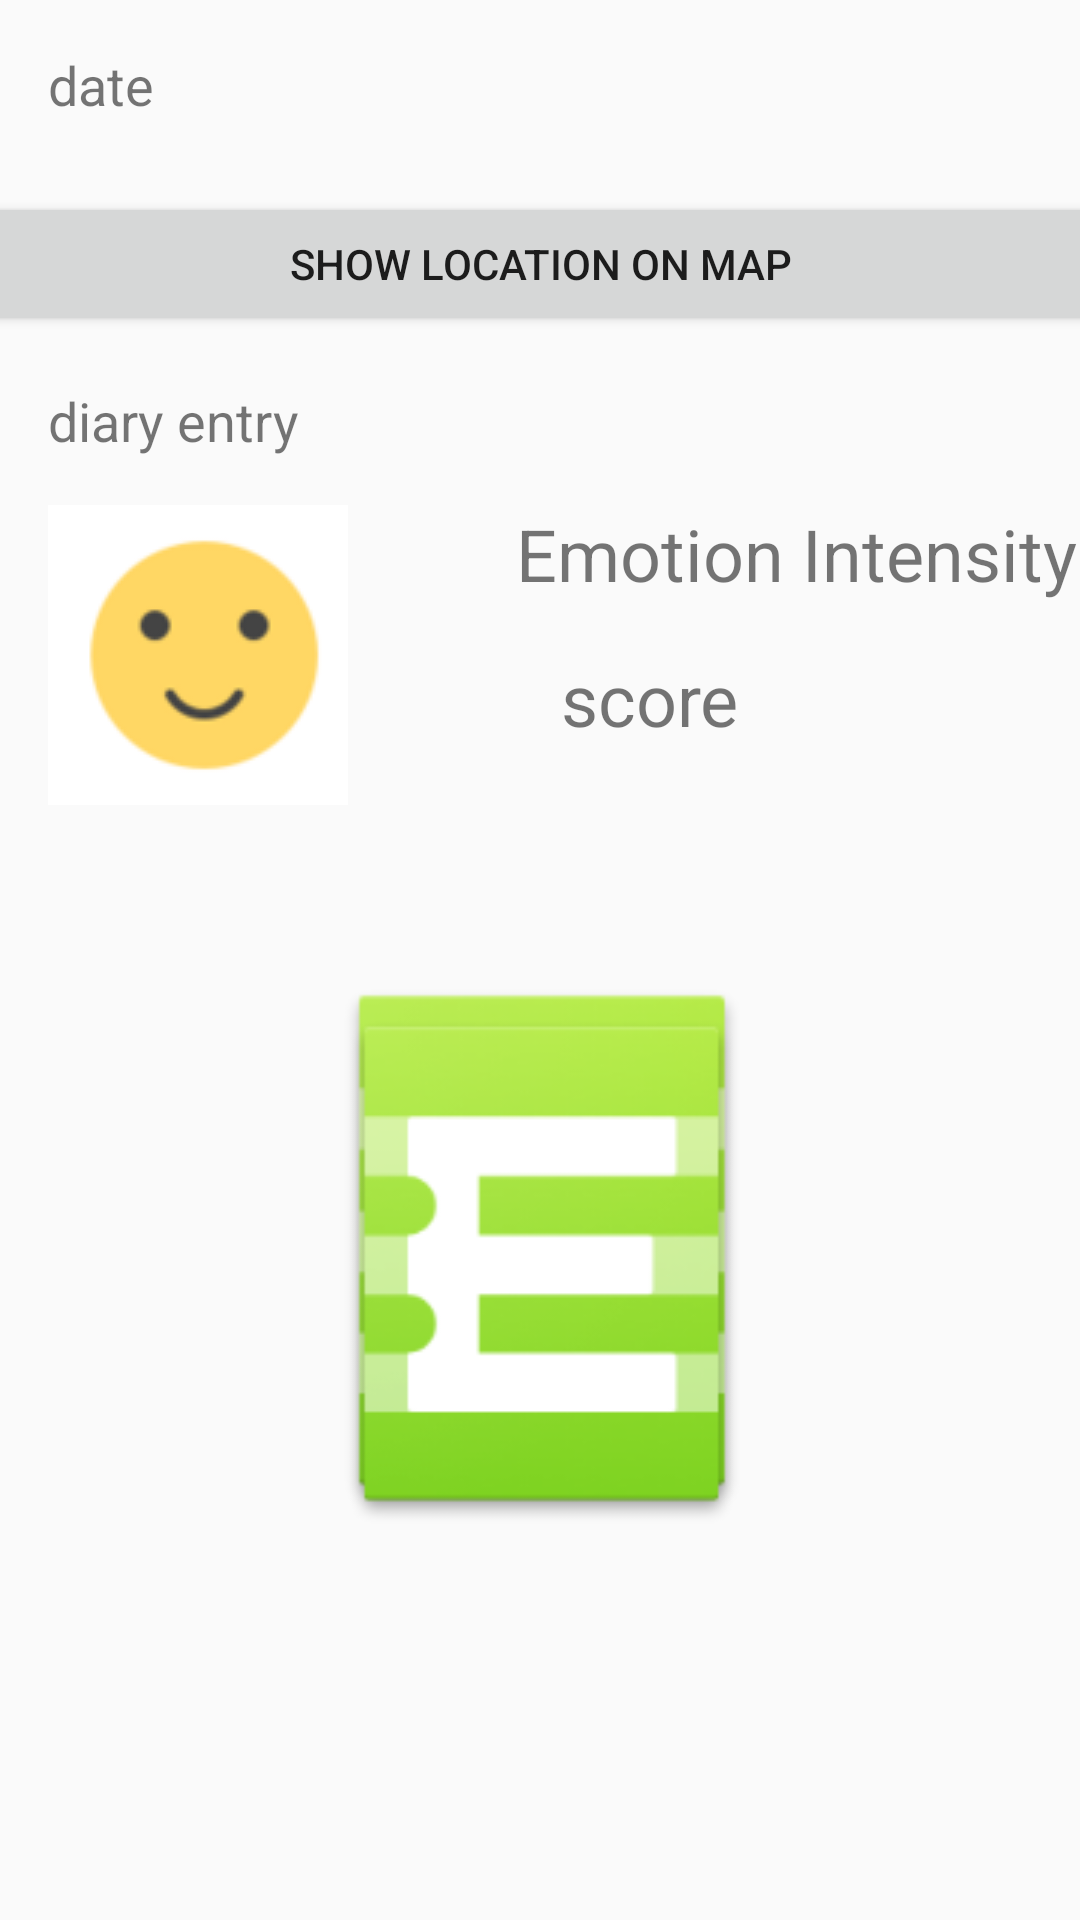

Screen size 1080*1920. Icon name, then its box in pixels as BBox(x1, y1, x2, y2):
smile: BBox(89, 540, 319, 770)
